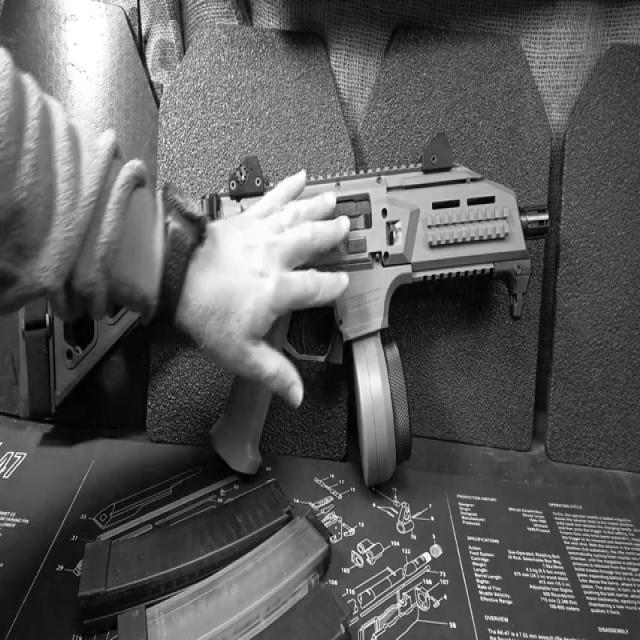Sub-machine-gun: (154, 138, 552, 454)
